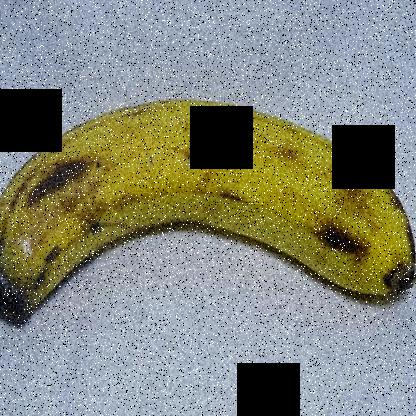ripe: (1, 76, 411, 342)
